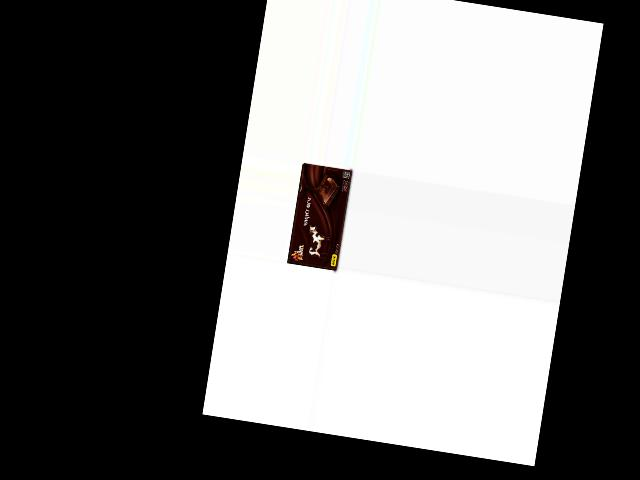chocolate: (286, 163, 352, 273)
